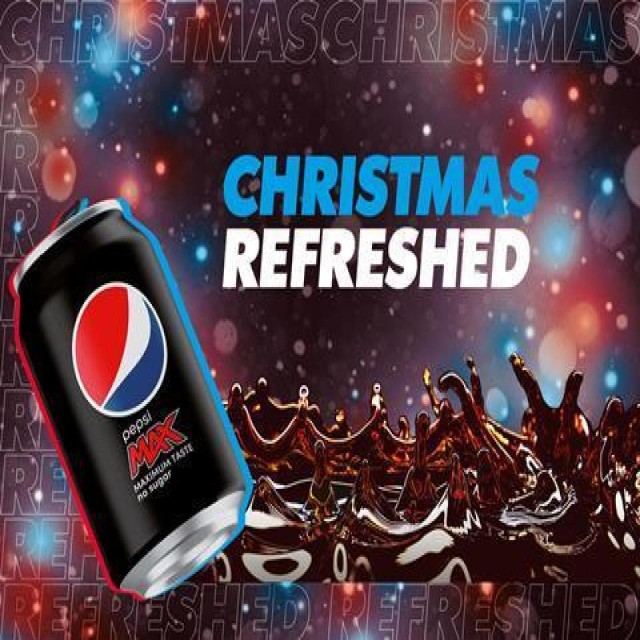pepsi: (73, 284, 170, 417)
